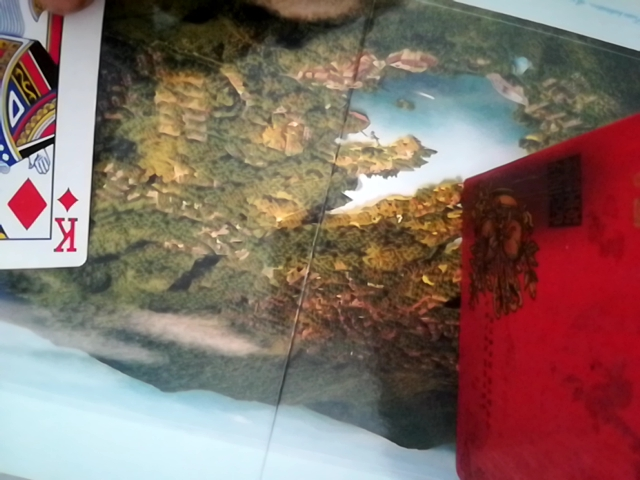fk k: (0, 1, 104, 273)
